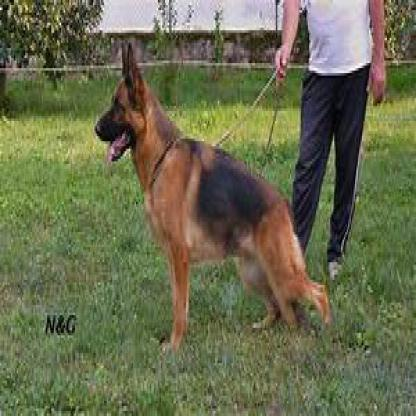dog: (96, 35, 331, 348)
